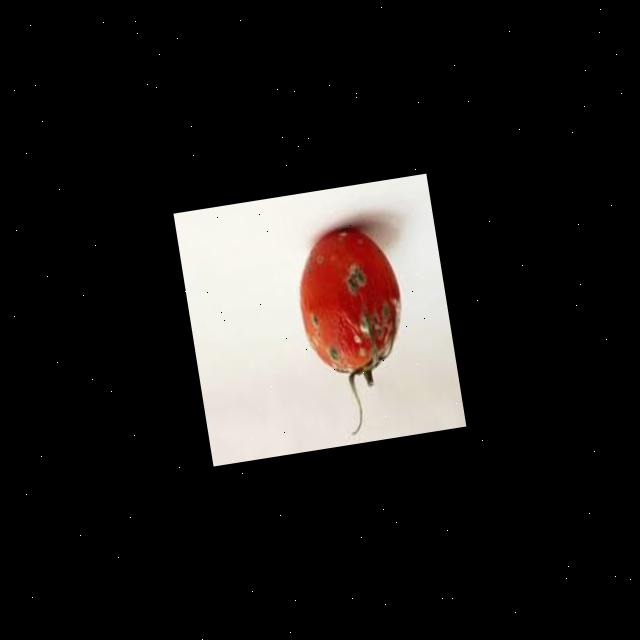tomato: (278, 212, 430, 395)
